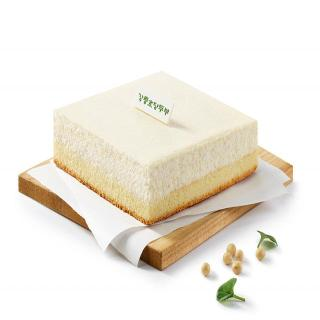Tahu: (30, 62, 287, 223)
